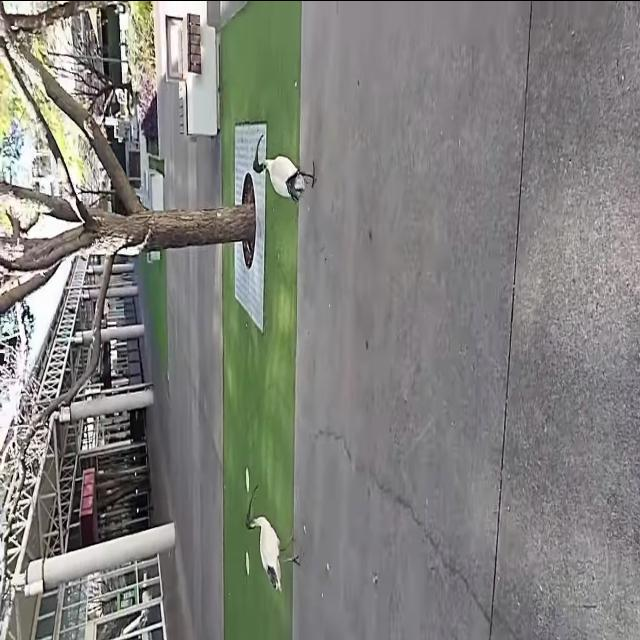Birds-Ibis: (240, 478, 302, 598), (248, 127, 319, 205)
